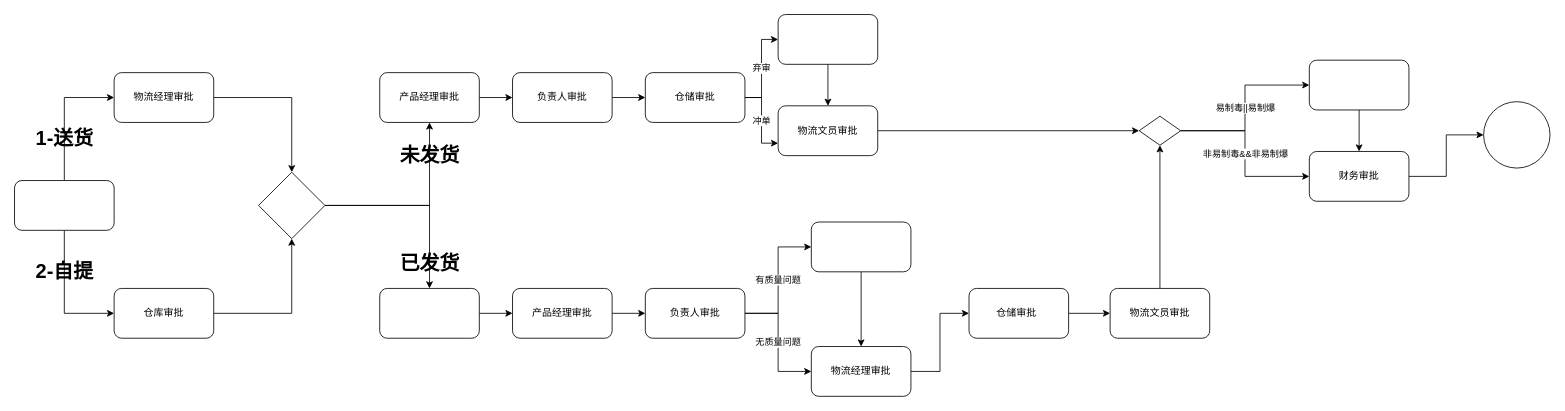
Image size: 1565x411. Some labels were removed from this diagram. The centre of each missing label's shape, as x and y in pixels:
"提交售后申请" goes at point (64, 205).
"确认合同客服" goes at point (827, 39).
"确认合同客服审批" goes at point (429, 313).
"结束" goes at point (1516, 134).
"订单资质审核" goes at point (1358, 84).
"采购审批" goes at point (860, 246).
